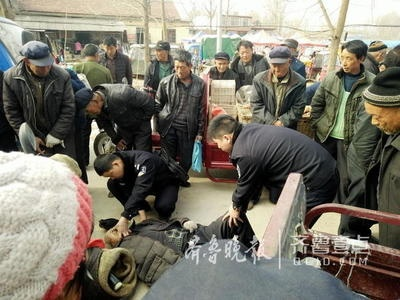falling: (86, 202, 266, 290)
